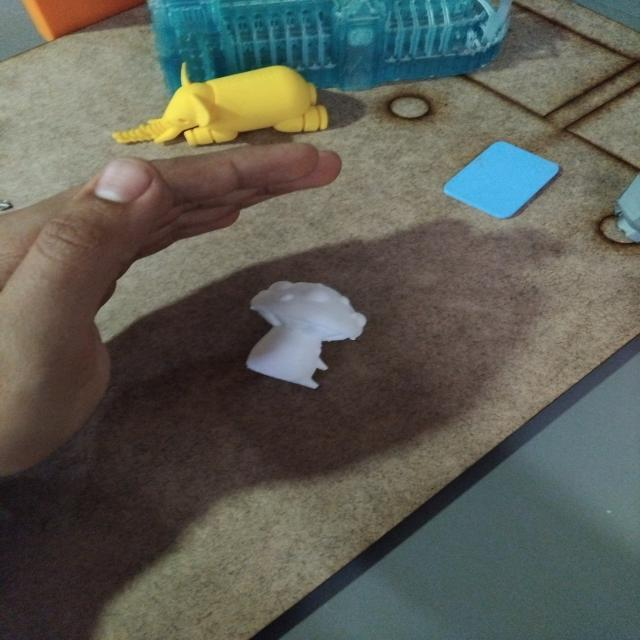Hongo: (236, 274, 372, 396)
